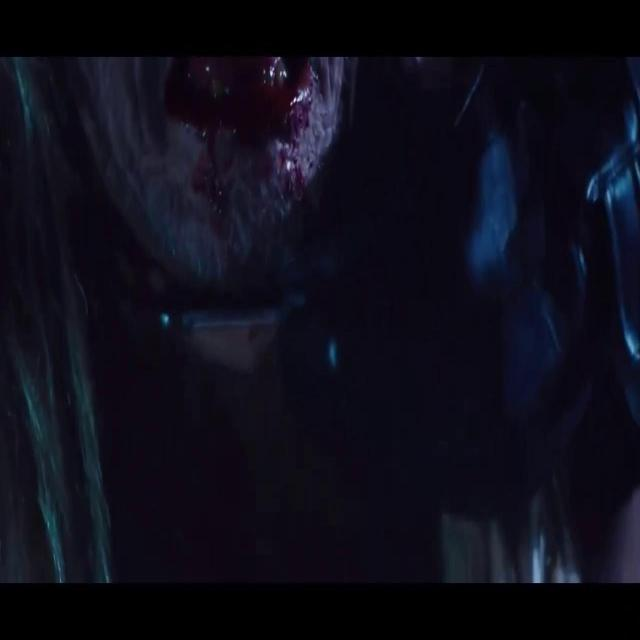flood: (178, 60, 315, 168)
